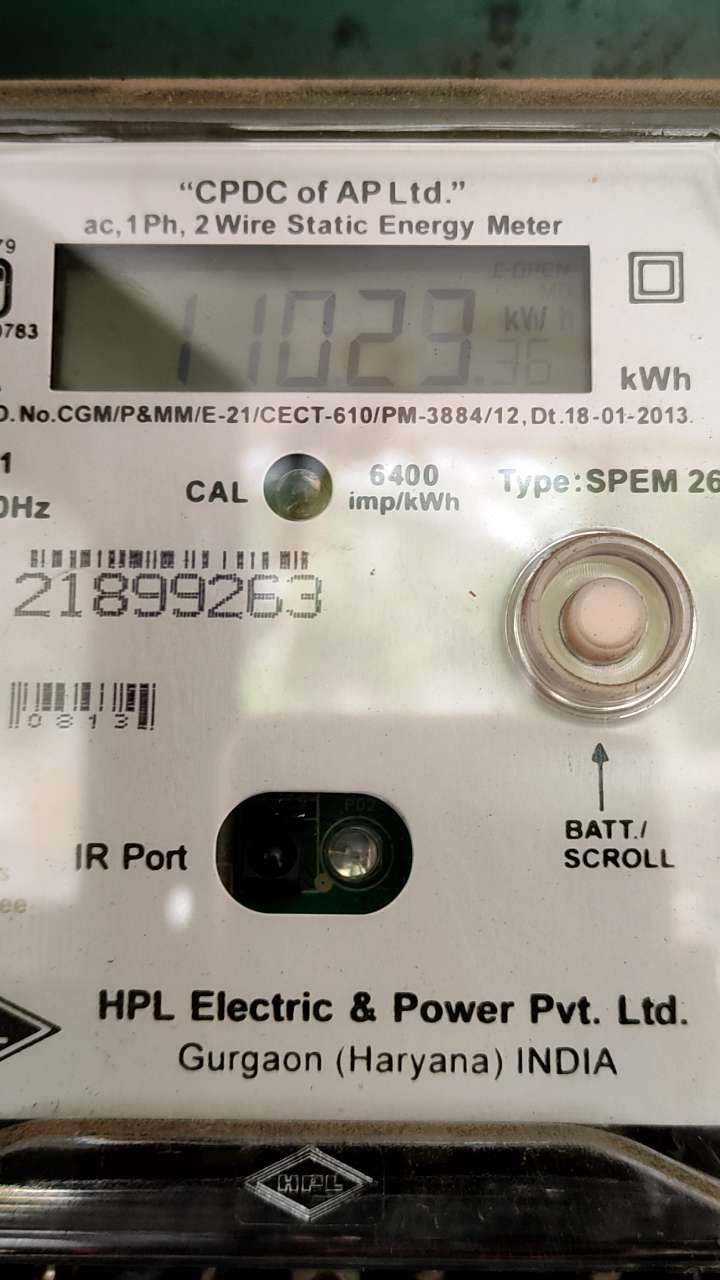meter_serial_number: (8, 565, 335, 629)
